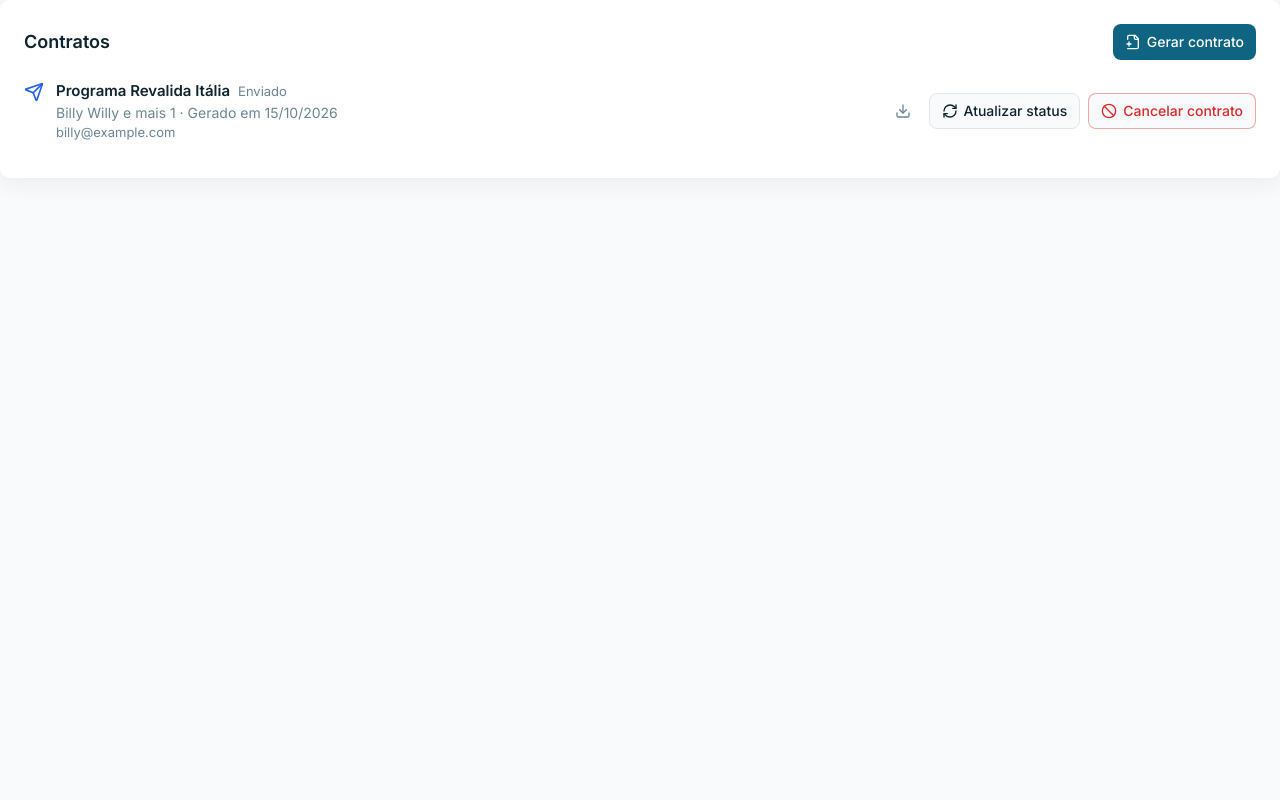
Contratos list › shows a toast when cancelling fails (409) and refreshes the list
Click the button "Cancelar contrato". click: (1172,111)
box: [1088, 93, 1256, 129]
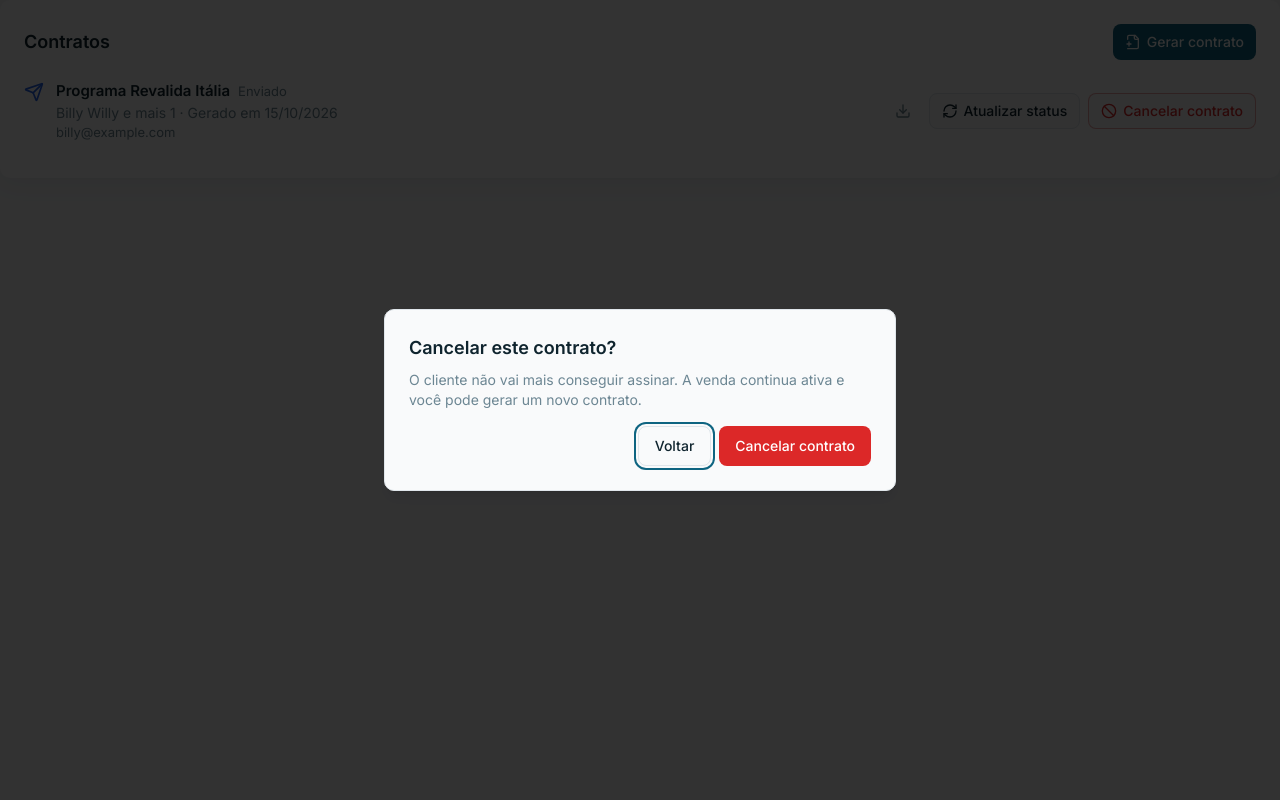
Click the button "Cancelar contrato". click: (795,446)
box: [719, 426, 871, 466]
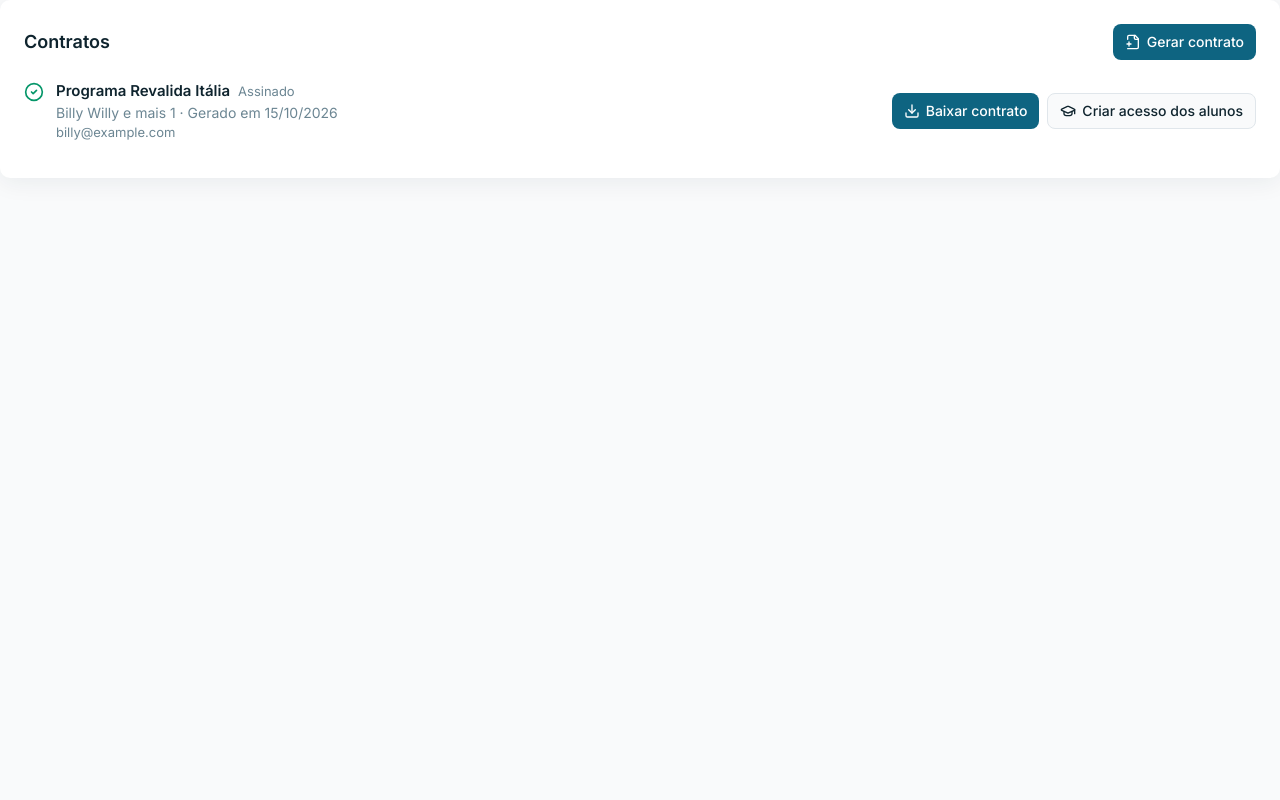
Check: the text "Assinado" is shown, box [238, 82, 295, 102]
Check: the dialog is gone
